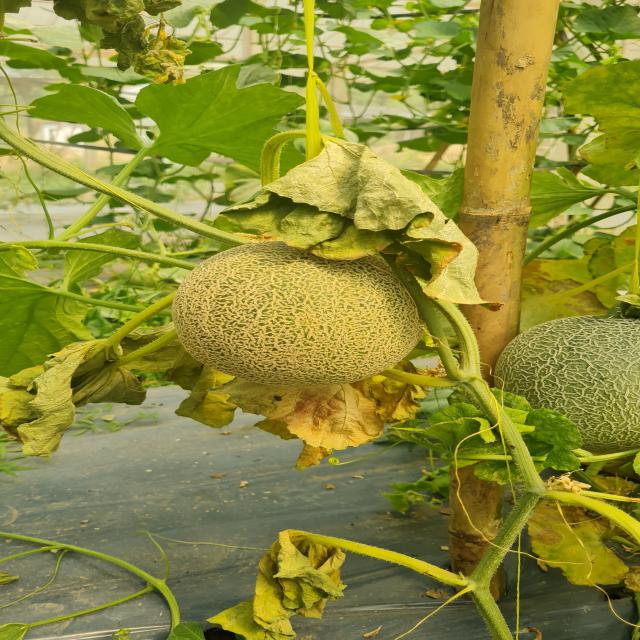melon: (171, 241, 422, 388), (496, 315, 640, 452)
